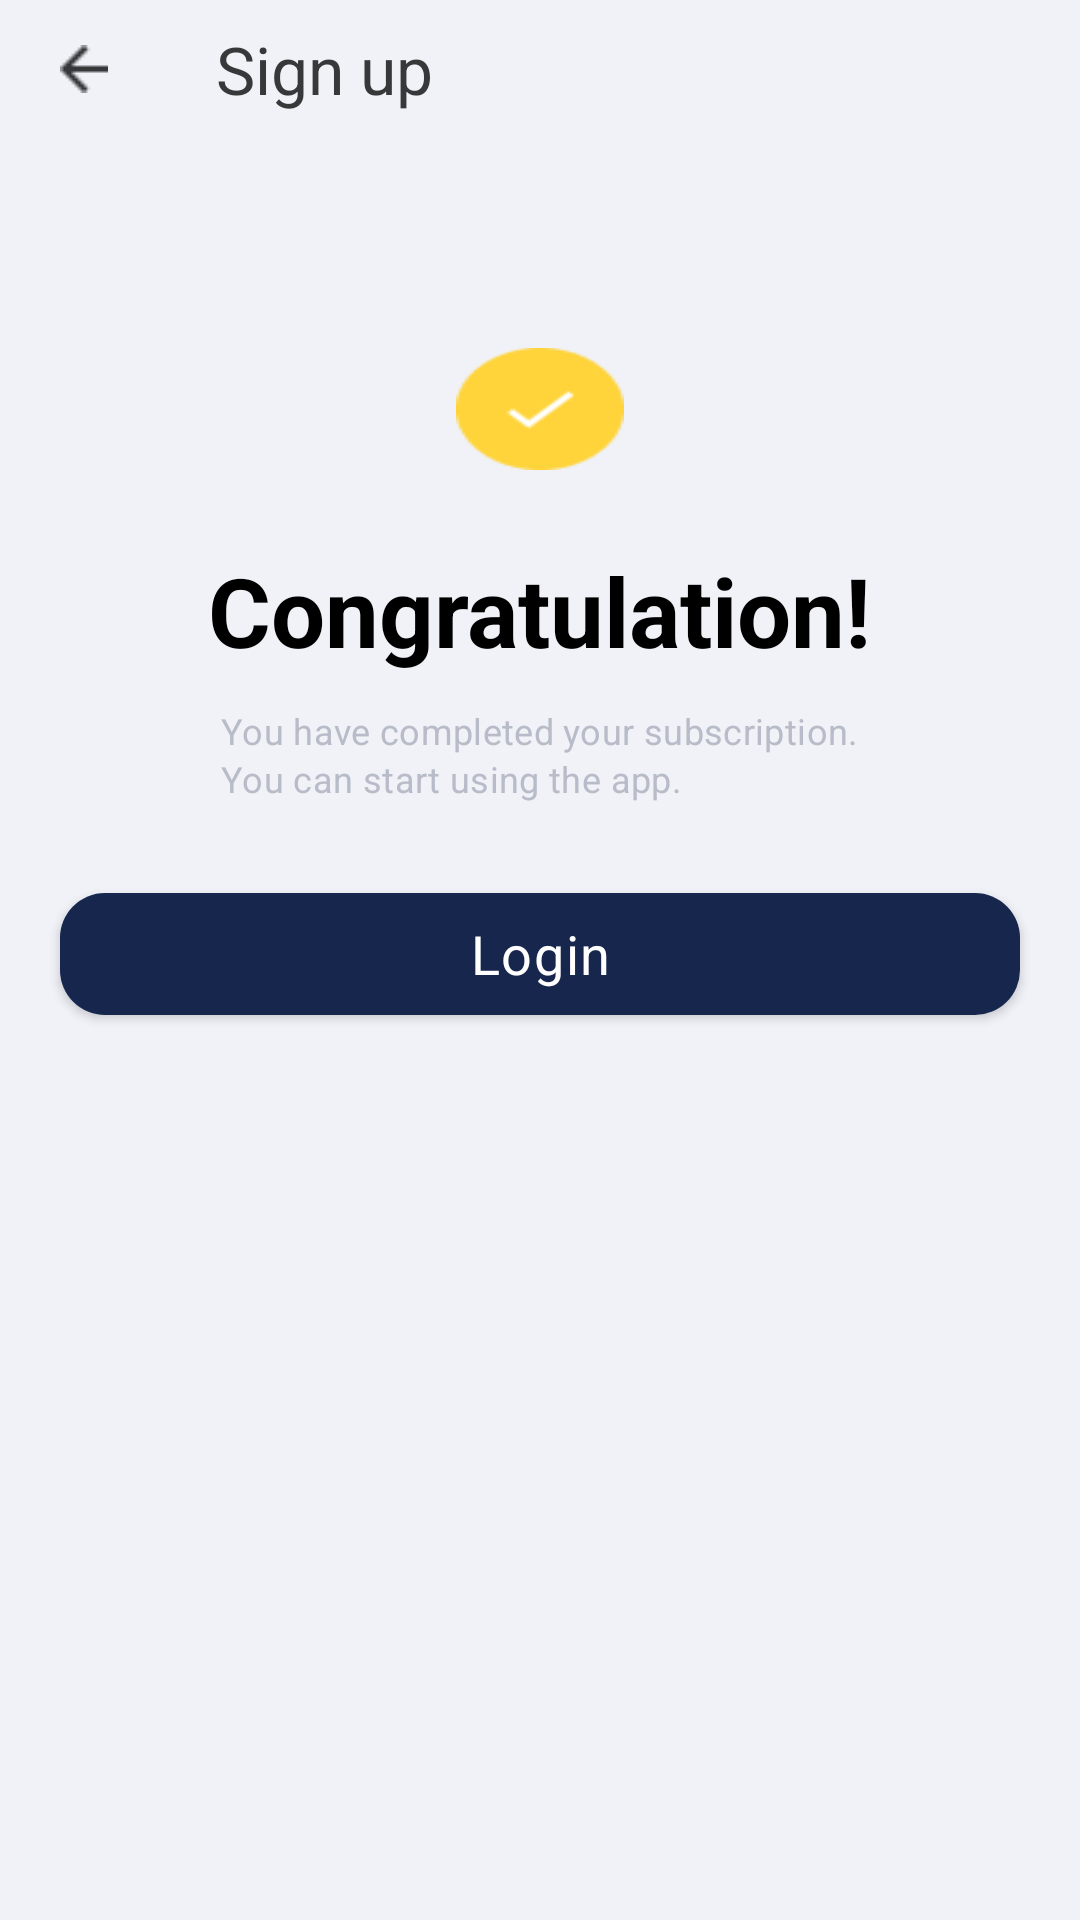

Named icons in this screenshot (1080x1920) and their bounding boxes, (x1, y1, x2, y2):
sign up complete: (456, 348, 624, 470)
